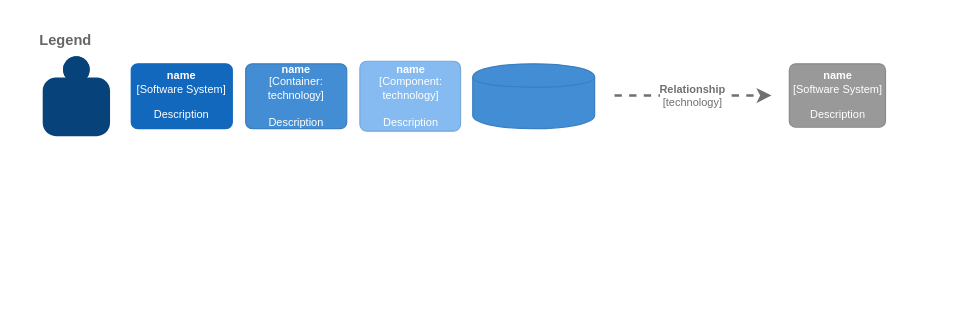
Some shapes in this 969 by 310 pixel diagram are drawn without their labels. The centre of each missing label's shape, as x and y in pixels:
"Database [Container: Technology] Description" goes at point 533,96.
"name [Person] Description" goes at point 75,96.
